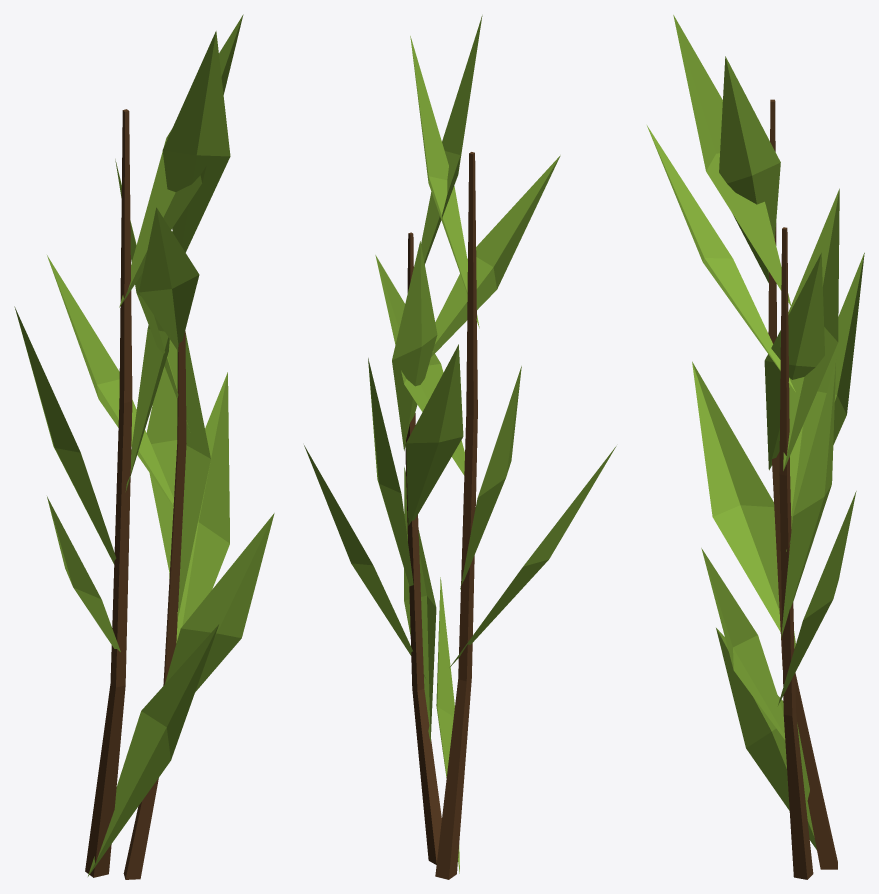
File: SM_Grass_Reed_Mature_B.fbx
3 renders of one model, left to right at view 1: azimuth 30°, elevation 25°; view 2: azimuth 150°, elevation 25°; view 3: azimuth 270°, elevation 25°, orthographic. The views are drawn at different scales.
Visible parts, largest first — view 1: grass-reed-mature-b; view 2: grass-reed-mature-b; view 3: grass-reed-mature-b.
Part boxes in pixels (x1=…): grass-reed-mature-b: x1=14, y1=14, x2=274, y2=879; grass-reed-mature-b: x1=304, y1=15, x2=616, y2=879; grass-reed-mature-b: x1=647, y1=15, x2=864, y2=879.
Size of the model in its own units: 0.6125 by 1.96 by 0.4468.
